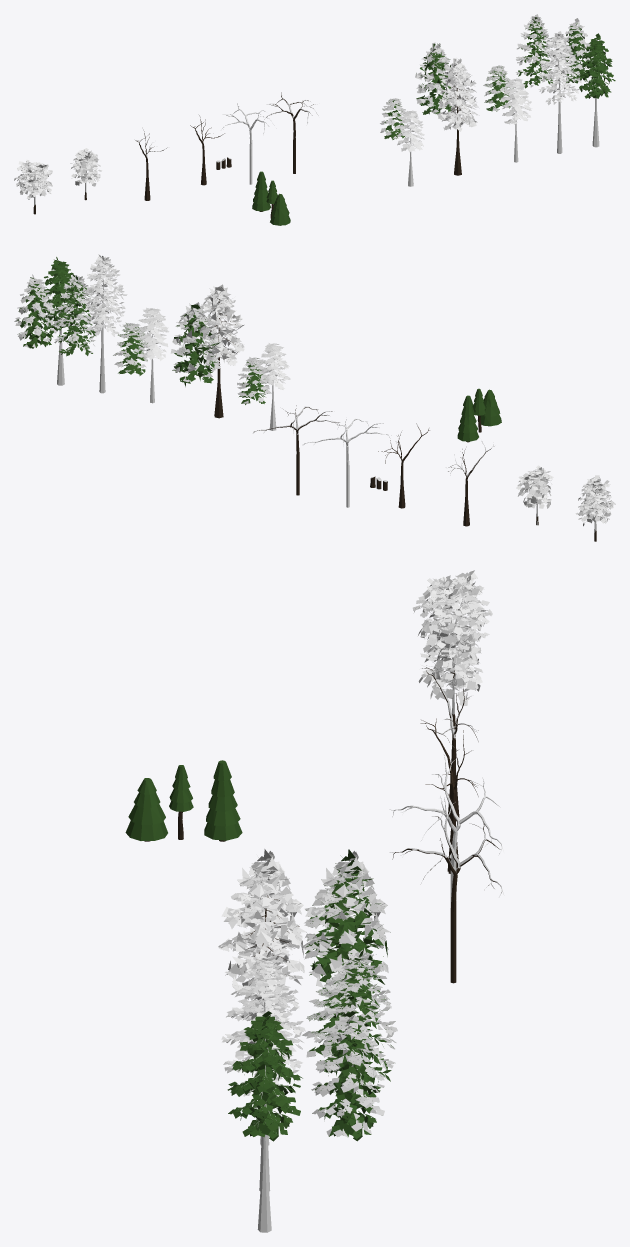
The model's file is Trees.fbx.
3 views of the same model, one above another, from view 1: azimuth 30°, elevation 25°; view 2: azimuth 150°, elevation 25°; view 3: azimuth 270°, elevation 25° (orthographic). The views are drawn at different scales.
Visible parts, largest first — view 1: Douglas Fir Leaves 1, Douglas Fir Leaves 3, Douglas Fir Leaves 1 Snow, Douglas Fir Leaves 3 Snow, Douglas Fir Leaves 4, Birch Leaves 1, Douglas Fir Leaves 4 Snow, Douglas Fir Leaves 2, Douglas Fir Leaves 2 Snow, Birch Leaves 2, Douglas Fir Leaves 5, Douglas Fir Leaves 5 Snow (+6 smaller); view 2: Douglas Fir Leaves 1 Snow, Douglas Fir Leaves 3 Snow, Douglas Fir Leaves 1, Douglas Fir Leaves 3, Douglas Fir Leaves 4 Snow, Birch Leaves 1, Douglas Fir Leaves 4, Douglas Fir Leaves 2 Snow, Birch Leaves 2, Douglas Fir Leaves 2, Douglas Fir Leaves 5 Snow, Douglas Fir Leaves 5 (+7 smaller); view 3: Douglas Fir Leaves 1, Douglas Fir Leaves 1 Snow, Douglas Fir Leaves 4, Douglas Fir Leaves 4 Snow, Douglas Fir Leaves 3 Snow, Douglas Fir Leaves 3, Birch Leaves 1, Birch Leaves 2, Conifer Tree, Conifer Tree 3, Daed Tree 1 Snow, Douglas Fir Leaves 2 Snow (+3 smaller).
Part boxes in pixels (x1=…): Douglas Fir Leaves 1: x1=436, y1=57, x2=478, y2=131; Douglas Fir Leaves 3: x1=538, y1=31, x2=581, y2=105; Douglas Fir Leaves 1 Snow: x1=415, y1=42, x2=455, y2=114; Douglas Fir Leaves 3 Snow: x1=515, y1=14, x2=556, y2=88; Douglas Fir Leaves 4: x1=577, y1=33, x2=615, y2=98; Birch Leaves 1: x1=14, y1=160, x2=52, y2=199; Douglas Fir Leaves 4 Snow: x1=561, y1=18, x2=591, y2=83; Douglas Fir Leaves 2: x1=501, y1=78, x2=531, y2=124; Douglas Fir Leaves 2 Snow: x1=483, y1=65, x2=513, y2=111; Birch Leaves 2: x1=70, y1=148, x2=101, y2=186; Douglas Fir Leaves 5: x1=396, y1=110, x2=424, y2=152; Douglas Fir Leaves 5 Snow: x1=380, y1=98, x2=407, y2=139; Douglas Fir Leaves 1 Snow: x1=170, y1=302, x2=220, y2=386; Douglas Fir Leaves 3 Snow: x1=53, y1=274, x2=100, y2=356; Douglas Fir Leaves 1: x1=199, y1=284, x2=244, y2=367; Douglas Fir Leaves 3: x1=80, y1=254, x2=127, y2=336; Douglas Fir Leaves 4 Snow: x1=14, y1=274, x2=60, y2=348; Birch Leaves 1: x1=575, y1=475, x2=615, y2=526; Douglas Fir Leaves 4: x1=42, y1=257, x2=83, y2=330; Douglas Fir Leaves 2 Snow: x1=113, y1=323, x2=148, y2=375; Birch Leaves 2: x1=516, y1=465, x2=553, y2=508; Douglas Fir Leaves 2: x1=138, y1=307, x2=169, y2=360; Douglas Fir Leaves 5 Snow: x1=237, y1=357, x2=271, y2=404; Douglas Fir Leaves 5: x1=257, y1=343, x2=290, y2=389; Douglas Fir Leaves 1: x1=218, y1=849, x2=306, y2=1000; Douglas Fir Leaves 1 Snow: x1=302, y1=849, x2=390, y2=998; Douglas Fir Leaves 4: x1=227, y1=1011, x2=302, y2=1141; Douglas Fir Leaves 4 Snow: x1=311, y1=1011, x2=387, y2=1141; Douglas Fir Leaves 3 Snow: x1=313, y1=949, x2=397, y2=1097; Douglas Fir Leaves 3: x1=221, y1=949, x2=305, y2=1096; Birch Leaves 1: x1=412, y1=570, x2=492, y2=653; Birch Leaves 2: x1=418, y1=626, x2=482, y2=705; Conifer Tree: x1=204, y1=760, x2=242, y2=841; Conifer Tree 3: x1=125, y1=778, x2=167, y2=841; Daed Tree 1 Snow: x1=389, y1=797, x2=504, y2=983; Douglas Fir Leaves 2 Snow: x1=302, y1=976, x2=363, y2=1072.
Size of what is drawn, in the model's own units: 30094 by 6443 by 9034.
